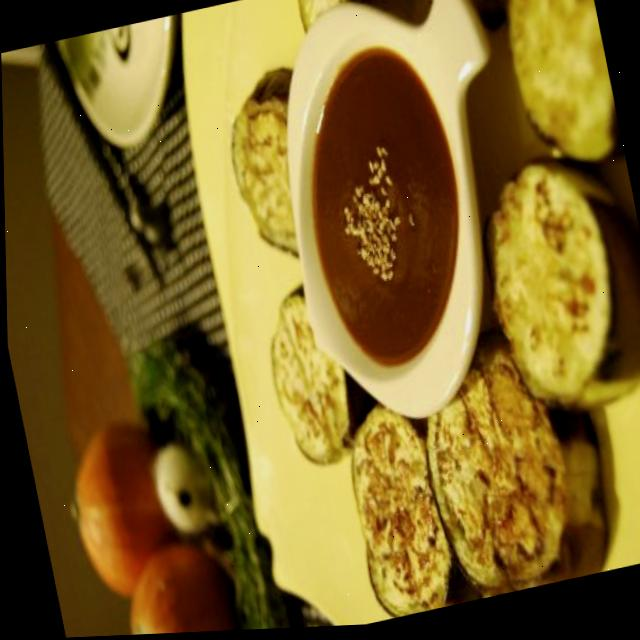鸡蛋料理: (171, 0, 640, 634)
